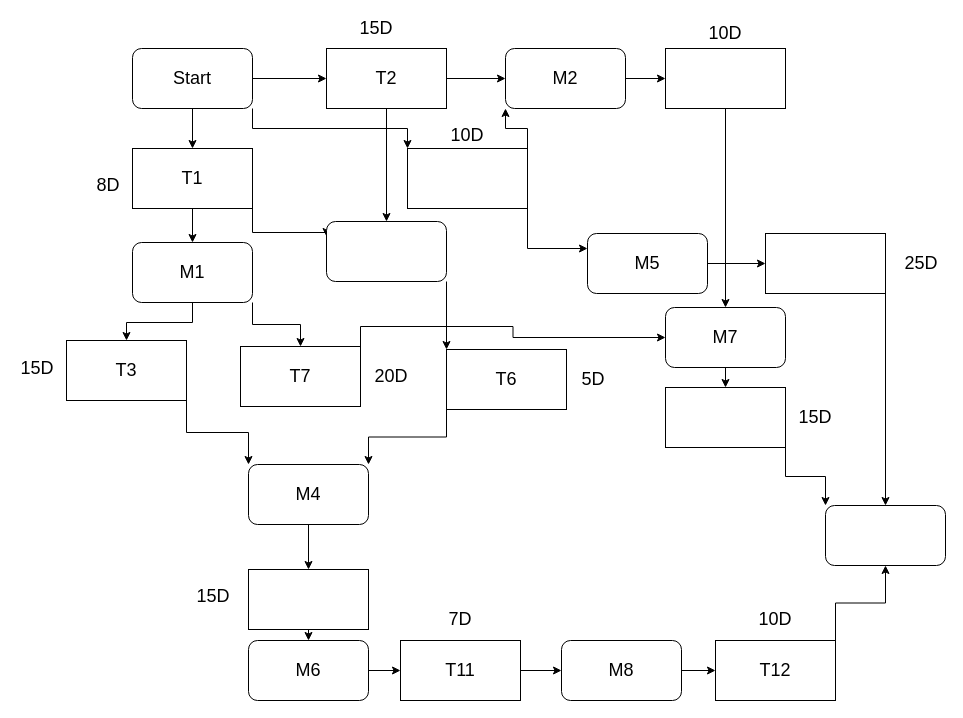
The diagram is 963 pixels wide and 718 high, and some of its shapes have lost their labels. The shapes that lost their labels are listed below. From the top down, each one's centre as x and y in pixels, then its label:
pixel 725 78: T5
pixel 467 178: T4
pixel 386 251: M3
pixel 825 263: T8
pixel 725 417: T10
pixel 885 535: Finish
pixel 308 599: T9
